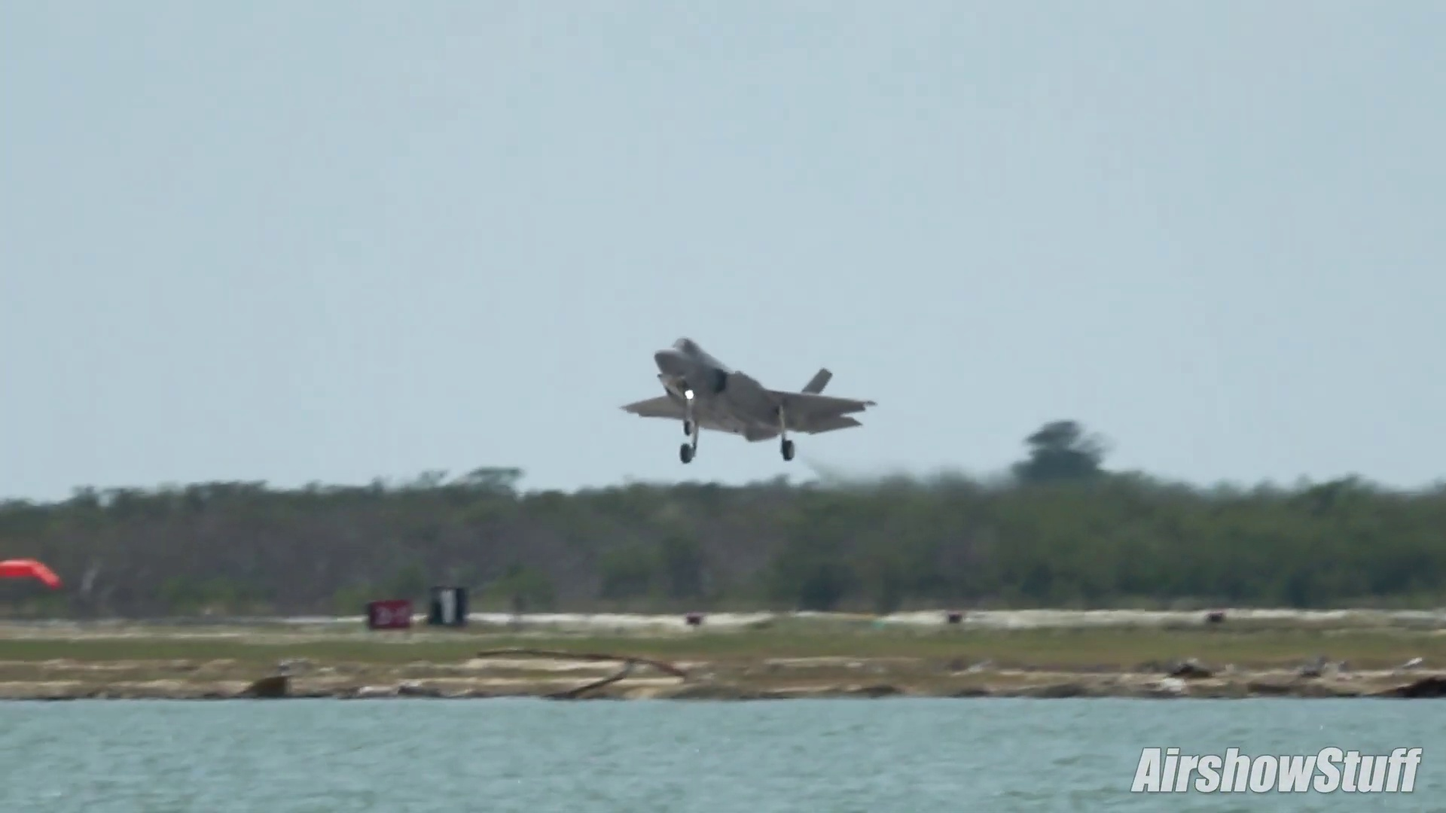F35: (618, 331, 884, 465)
